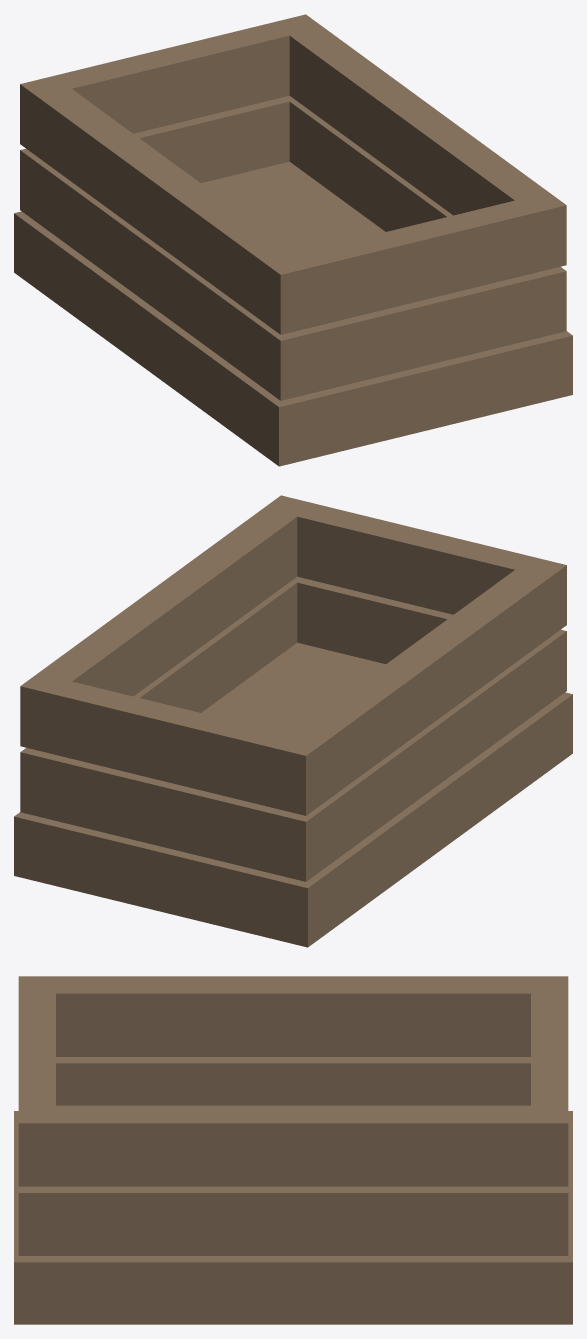
3 renders of one model, top to bottom at view 1: azimuth 30°, elevation 25°; view 2: azimuth 150°, elevation 25°; view 3: azimuth 270°, elevation 25°, orthographic. The views are drawn at different scales.
Visible parts, largest first — view 1: Box_2; view 2: Box_2; view 3: Box_2.
Boxes of the visible parts, box(x1,y1,x2,y2) form: Box_2: box(14, 14, 572, 466); Box_2: box(14, 495, 572, 947); Box_2: box(14, 976, 572, 1324).
Bounding box in the file's own units: 13.36 × 8.21 × 20.88.
1 material, 1 textured.
